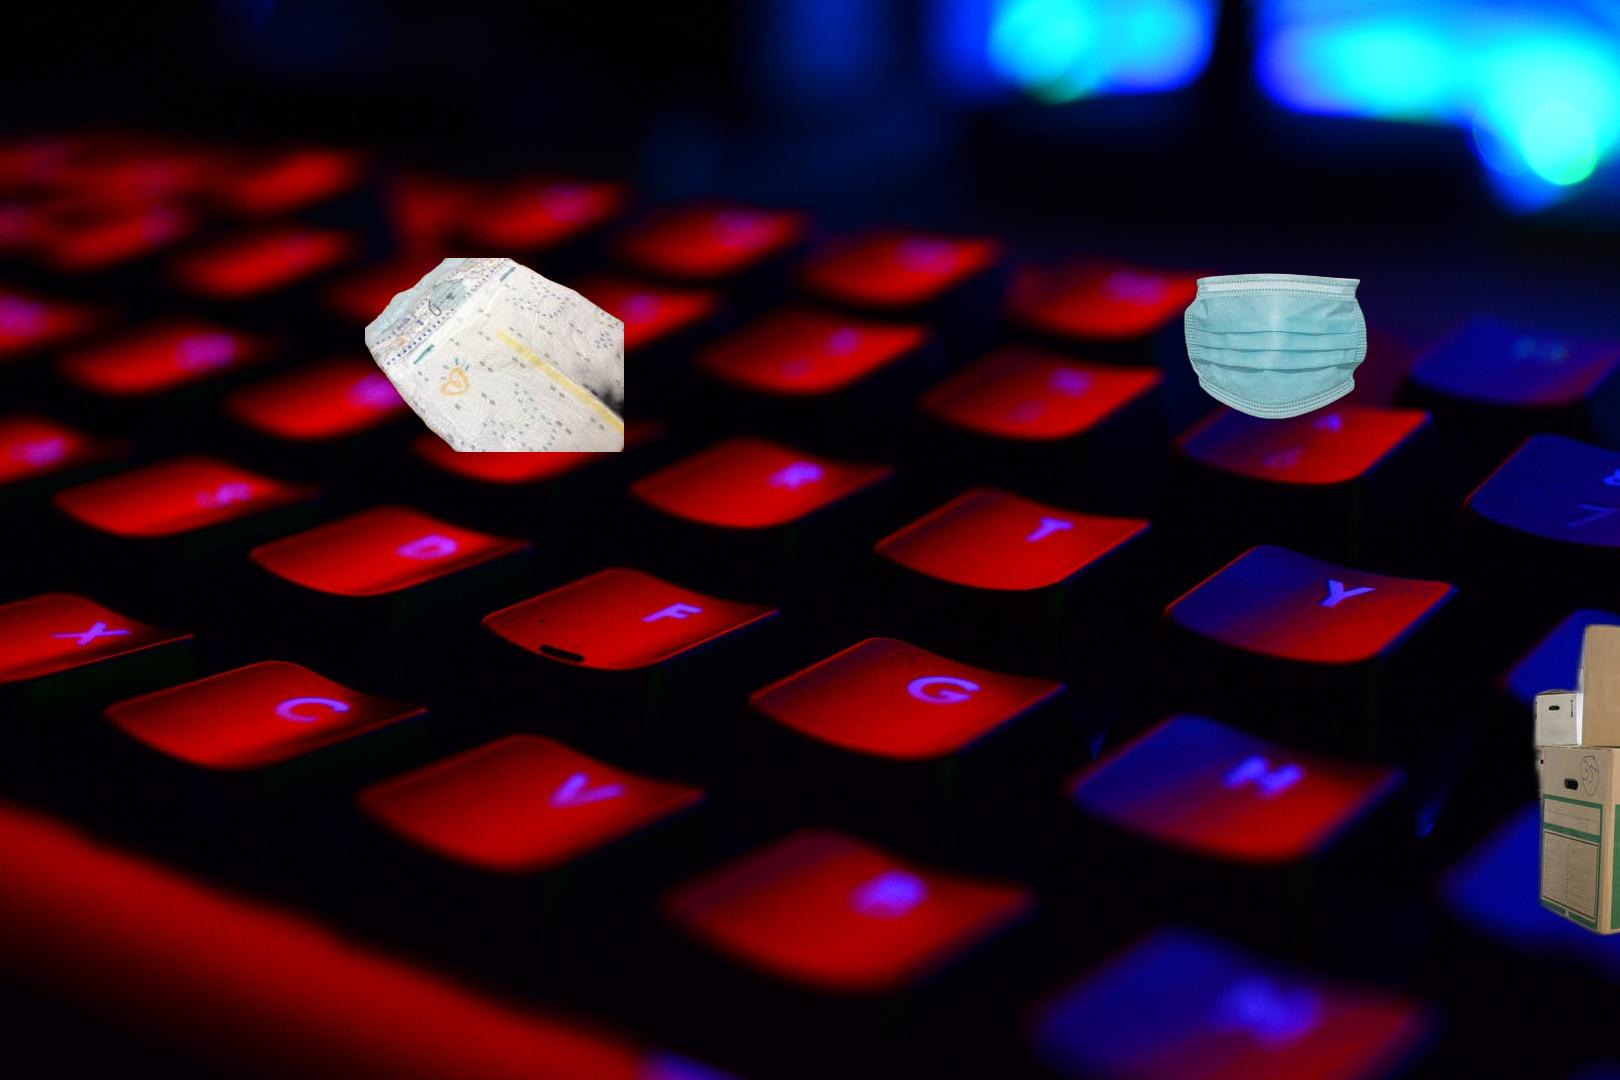trash: (365, 258, 624, 452), (1181, 271, 1370, 421)
trashbox-cardboard: (1524, 419, 1620, 994)
